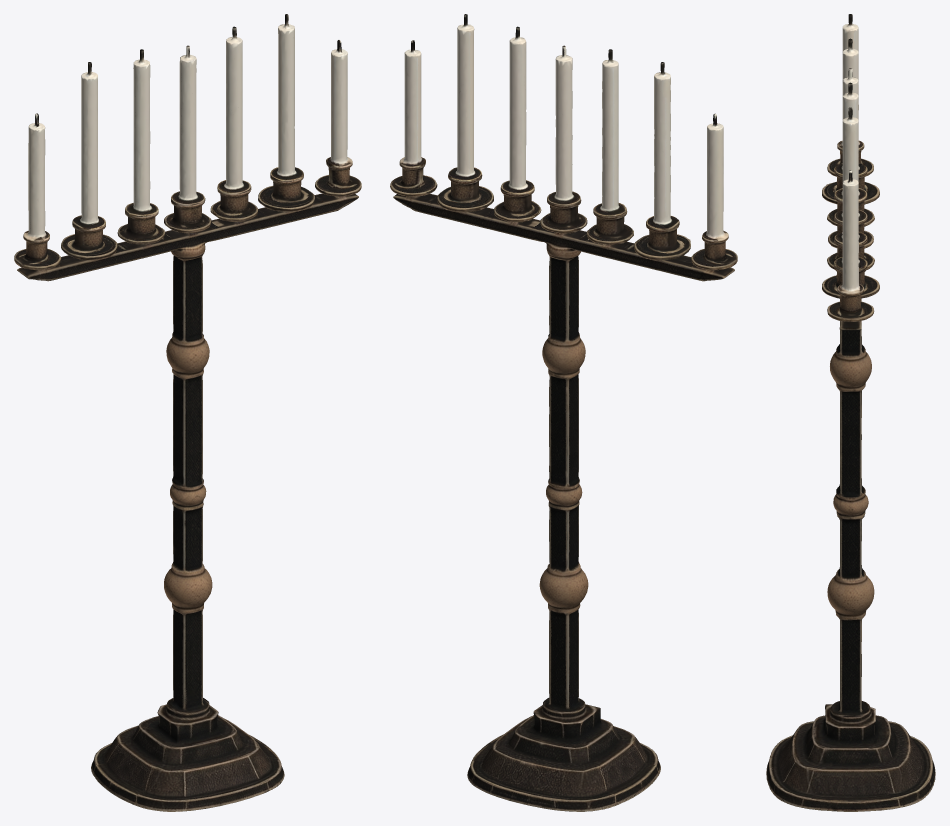
The model's file is vigil.glb.
3 views of the same model, side by side, from view 1: azimuth 30°, elevation 25°; view 2: azimuth 150°, elevation 25°; view 3: azimuth 270°, elevation 25° (orthographic). The views are drawn at different scales.
Parts seen in each view (by area): view 1: mesh_node; view 2: mesh_node; view 3: mesh_node.
Boxes of the visible parts, bbox=[...] form: mesh_node: bbox=[14, 14, 361, 811]; mesh_node: bbox=[390, 14, 737, 811]; mesh_node: bbox=[766, 14, 935, 811].
Bounding box in the file's own units: 0.9225 × 1.9 × 0.4083.
Materials: 1 (1 with a texture image).
